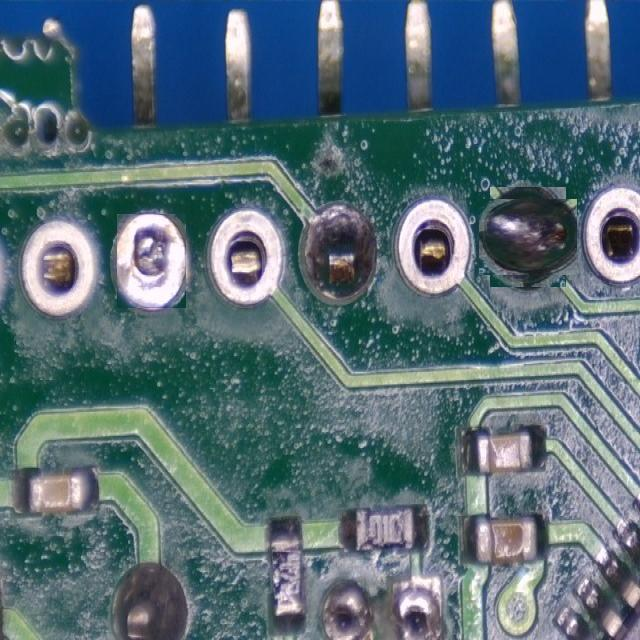Dry_joint: (479, 199, 577, 274), (117, 215, 186, 308)
